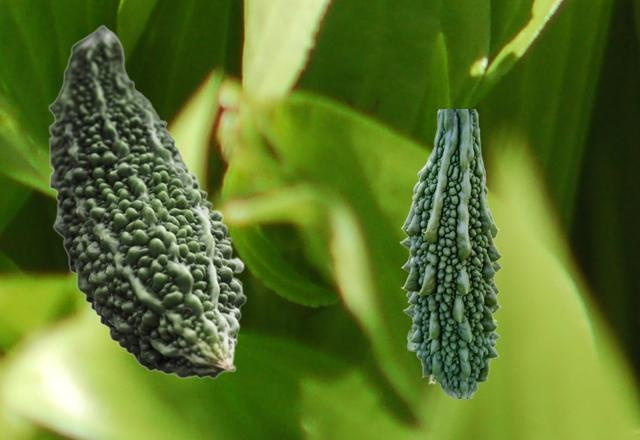ampalaya: (48, 24, 246, 378), (399, 109, 501, 397)
